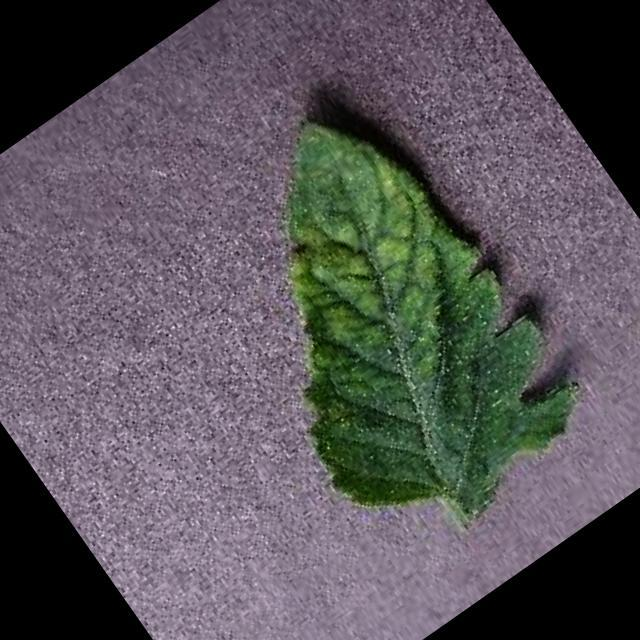Tomato mosaic virus leaf: (143, 68, 608, 570)
